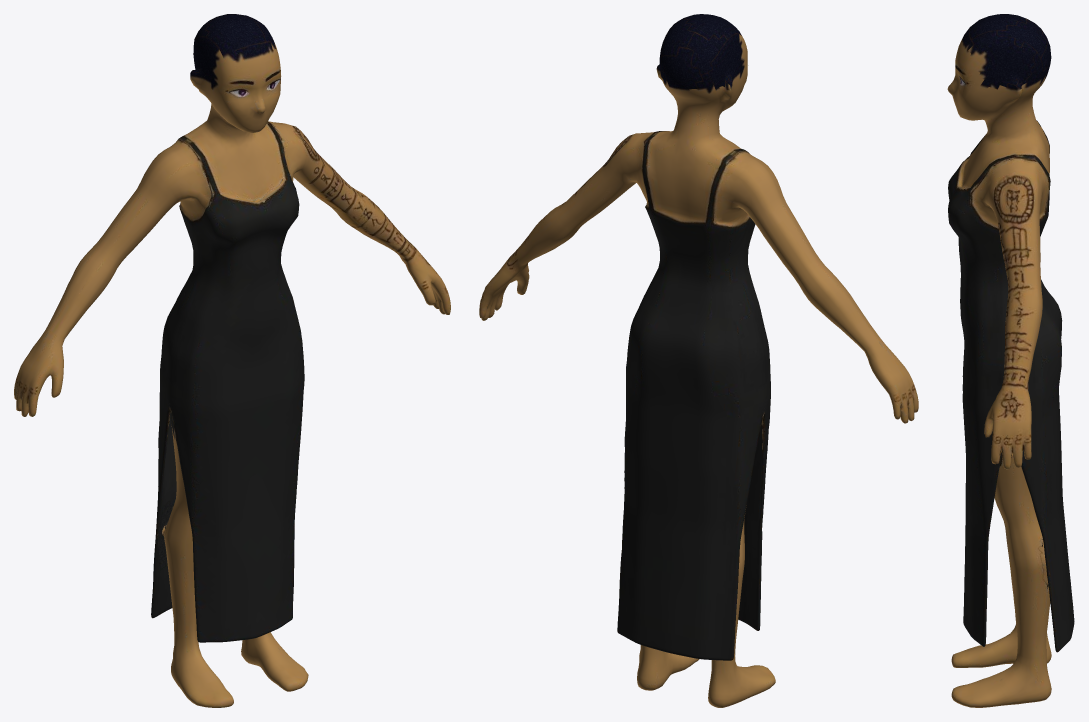
Rendered from witch_body.glb.
The picture shows the model from 3 angles, left to right: view 1: azimuth 30°, elevation 25°; view 2: azimuth 150°, elevation 25°; view 3: azimuth 270°, elevation 25°; orthographic projection.
Visible parts, largest first — view 1: tripo_node_d04e181e-3006-4375-bb7d-55b49258bffc; view 2: tripo_node_d04e181e-3006-4375-bb7d-55b49258bffc; view 3: tripo_node_d04e181e-3006-4375-bb7d-55b49258bffc.
Boxes of the visible parts, x1,y1,x2,y2 form: tripo_node_d04e181e-3006-4375-bb7d-55b49258bffc: (14, 14, 450, 707); tripo_node_d04e181e-3006-4375-bb7d-55b49258bffc: (479, 14, 918, 707); tripo_node_d04e181e-3006-4375-bb7d-55b49258bffc: (947, 14, 1074, 707).
Size of the model in its own units: 1.02 by 1.52 by 0.2636.
1 material, 1 textured.
